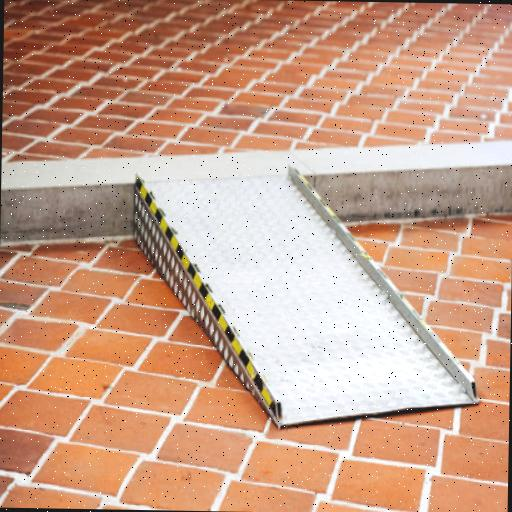ramp: (130, 174, 484, 432)
